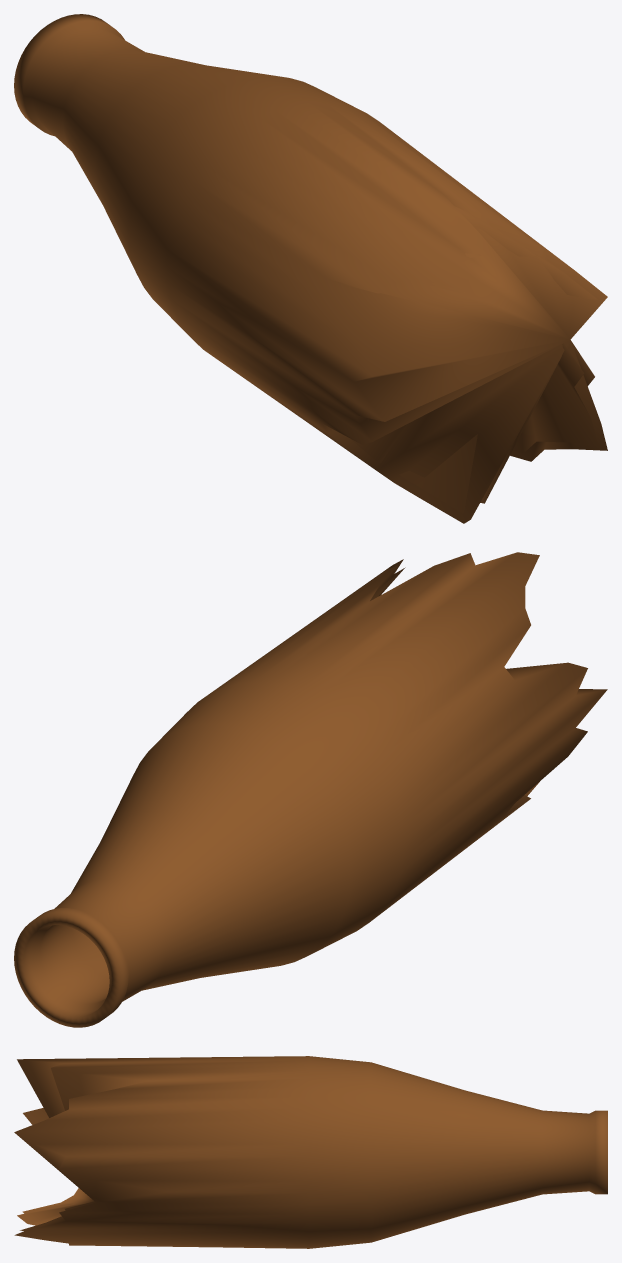
The model's file is Weapon_BottleBroken.fbx.
The picture shows the model from 3 angles, top to bottom: view 1: azimuth 30°, elevation 25°; view 2: azimuth 150°, elevation 25°; view 3: azimuth 270°, elevation 25°; orthographic projection. The views are drawn at different scales.
Parts seen in each view (by area): view 1: Weapon_BottleBroken; view 2: Weapon_BottleBroken; view 3: Weapon_BottleBroken.
Part boxes in pixels (<box>): Weapon_BottleBroken: <box>14,14,607,523</box>; Weapon_BottleBroken: <box>14,552,607,1027</box>; Weapon_BottleBroken: <box>14,1056,607,1248</box>.
Size of the model in its own units: 0.062 by 0.062 by 0.1909.
